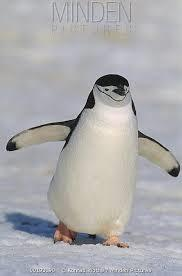chinstrap: (0, 58, 182, 250)
